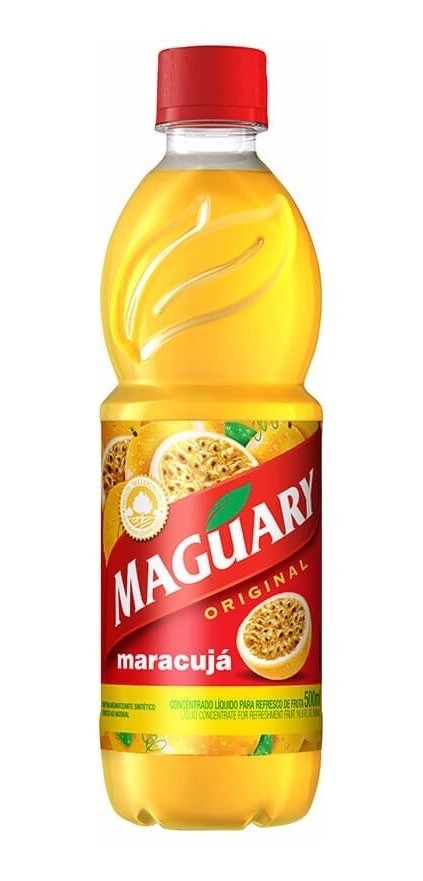maguary: (84, 34, 333, 864)
